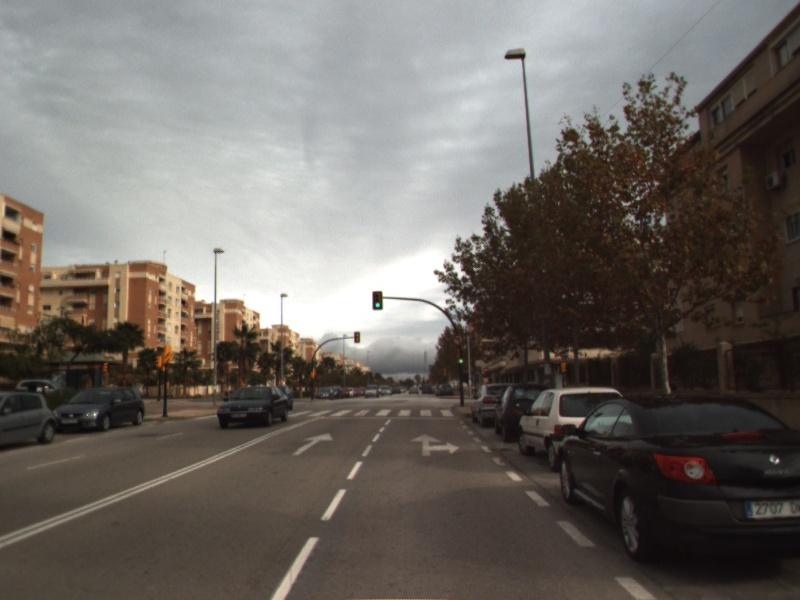STRAIGHT: (290, 431, 335, 457)
STRAIGHT_RIGHT: (409, 432, 462, 458)
